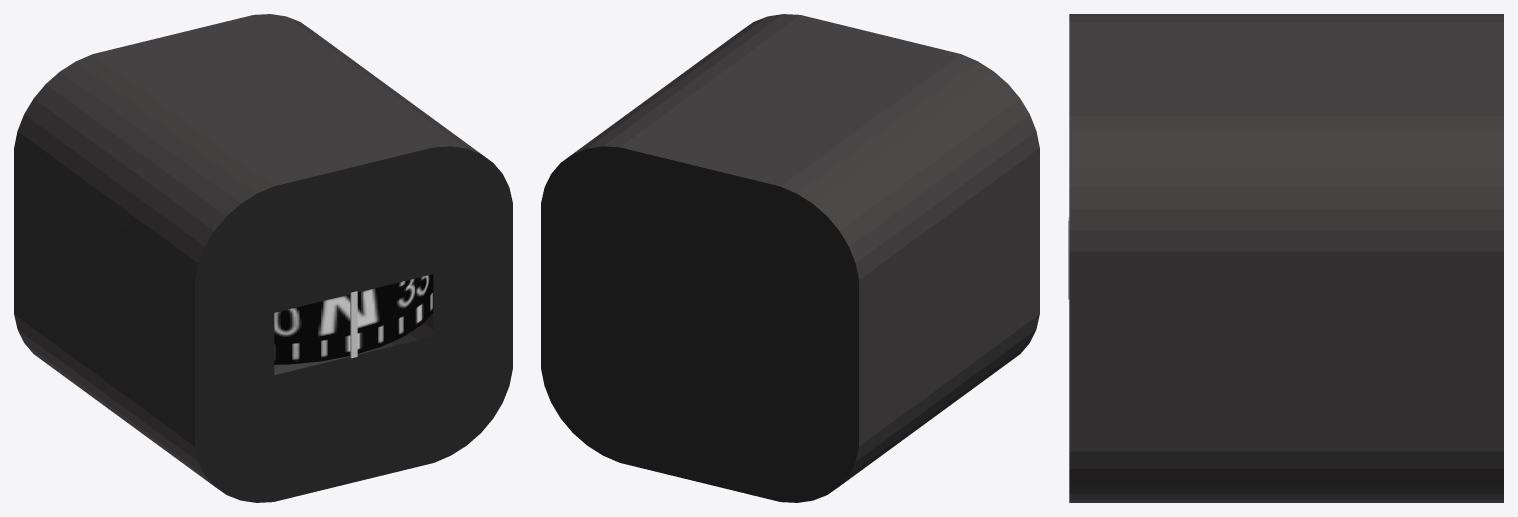
Rendered from compass.glb.
3 renders of one model, left to right at view 1: azimuth 30°, elevation 25°; view 2: azimuth 150°, elevation 25°; view 3: azimuth 270°, elevation 25°, orthographic. The views are drawn at different scales.
Parts seen in each view (by area): view 1: compass, compass_wheel; view 2: compass; view 3: compass.
Part boxes in pixels (x1,y1,x2,y2): compass: [14, 14, 512, 502]; compass_wheel: [274, 274, 433, 364]; compass: [541, 14, 1039, 502]; compass: [1068, 14, 1503, 502].
Bounding box in the file's own units: 0.08 × 0.0759 × 0.079.
Materials: 4 (1 with a texture image).
